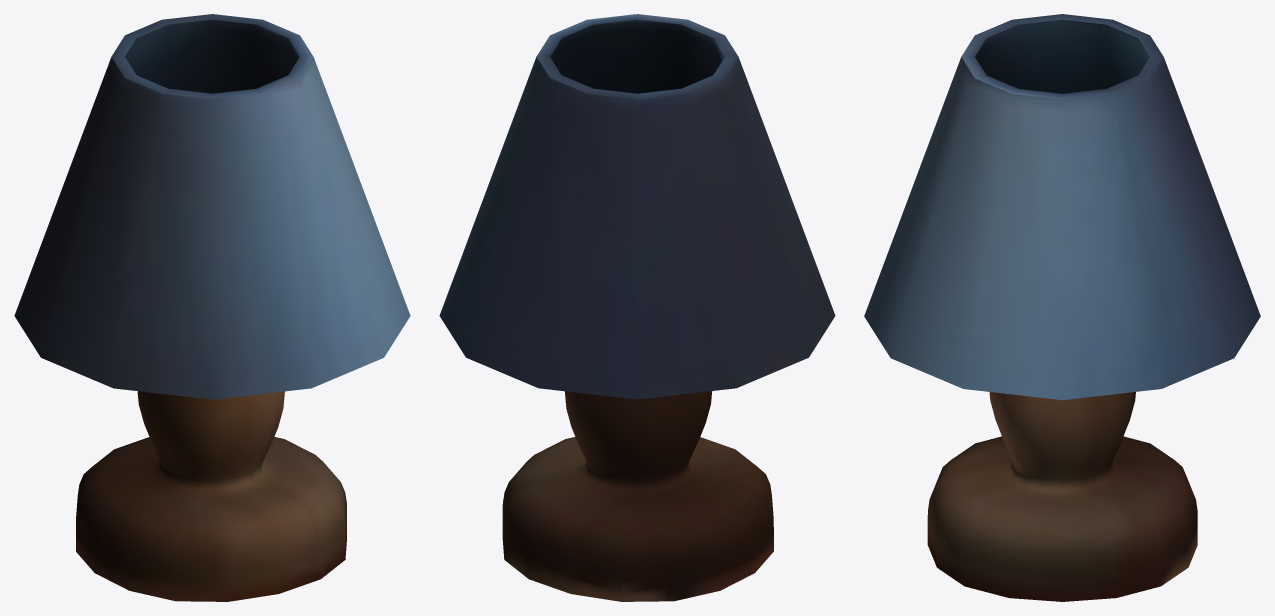
File: desk-lamp.glb
The picture shows the model from 3 angles, left to right: view 1: azimuth 30°, elevation 25°; view 2: azimuth 150°, elevation 25°; view 3: azimuth 270°, elevation 25°; orthographic projection.
Visible parts, largest first — view 1: Lamp_First_Hover_Raycaster; view 2: Lamp_First_Hover_Raycaster; view 3: Lamp_First_Hover_Raycaster.
Part boxes in pixels (x1,y1,x2,y2): Lamp_First_Hover_Raycaster: [14, 14, 410, 601]; Lamp_First_Hover_Raycaster: [439, 14, 835, 601]; Lamp_First_Hover_Raycaster: [864, 14, 1260, 601].
Bounding box in the file's own units: 0.8641 × 1.17 × 0.8641.
1 material, 1 textured.
